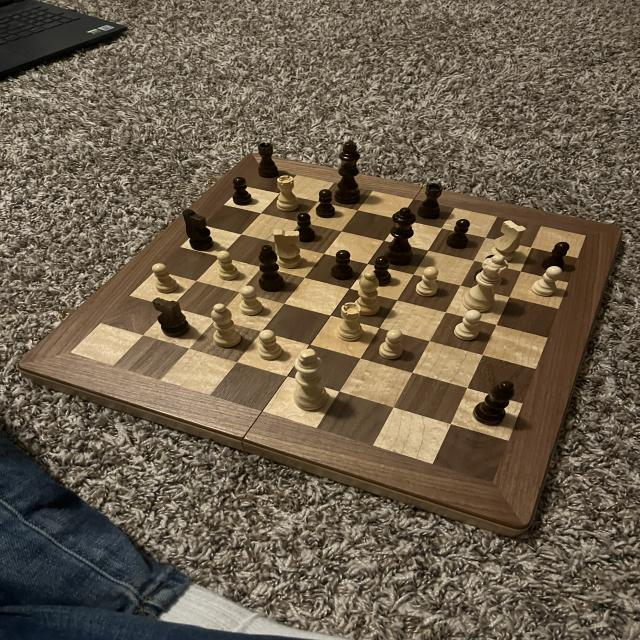bishop: (467, 378, 520, 431), (252, 241, 290, 291)
black-bishop: (332, 135, 369, 209)
black-king: (149, 294, 195, 341), (177, 205, 218, 251)
black-knight: (540, 239, 574, 273), (328, 247, 358, 283), (446, 217, 476, 251), (227, 175, 256, 207), (292, 210, 319, 244), (369, 253, 395, 286), (316, 187, 338, 220)
black-pawn: (382, 206, 423, 268)
black-queen: (414, 181, 450, 223), (254, 140, 286, 180)
black-rook: (208, 302, 246, 352), (352, 268, 384, 318)
white-bishop: (288, 348, 328, 416)
white-king: (487, 217, 529, 267), (268, 227, 310, 273)
white-knight: (148, 260, 183, 298), (528, 265, 566, 300), (450, 310, 487, 344), (236, 282, 270, 318), (376, 328, 408, 363), (212, 248, 242, 284), (256, 328, 284, 365), (415, 267, 443, 298)
white-pawn: (456, 252, 515, 315)
white-queen: (333, 300, 368, 344), (274, 173, 303, 213)
